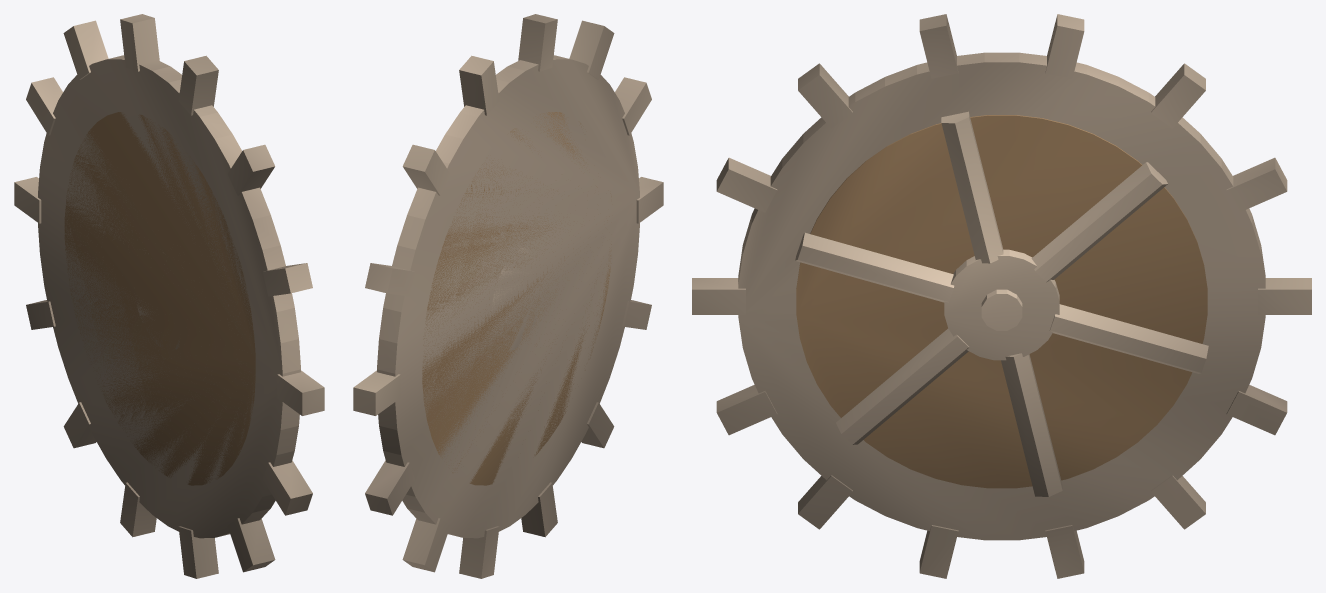
Rendered from SM_TowerGear_E2.fbx.
3 renders of one model, left to right at view 1: azimuth 30°, elevation 25°; view 2: azimuth 150°, elevation 25°; view 3: azimuth 270°, elevation 25°, orthographic. The views are drawn at different scales.
Parts seen in each view (by area): view 1: SM_TowerGear_E2; view 2: SM_TowerGear_E2; view 3: SM_TowerGear_E2.
Boxes of the visible parts, x1=… form: SM_TowerGear_E2: x1=14, y1=14, x2=324, y2=578; SM_TowerGear_E2: x1=353, y1=14, x2=663, y2=578; SM_TowerGear_E2: x1=692, y1=14, x2=1311, y2=578.
Size of the model in its own units: 31.49 by 374 by 380.
